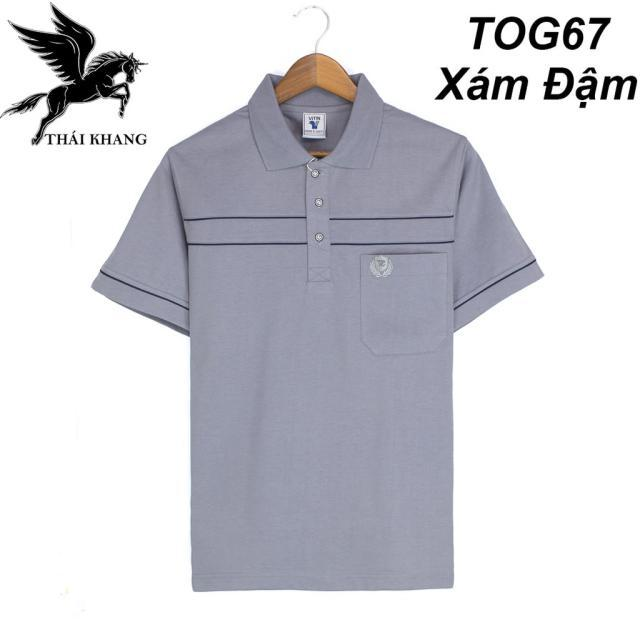Shirt: (90, 70, 546, 596)
